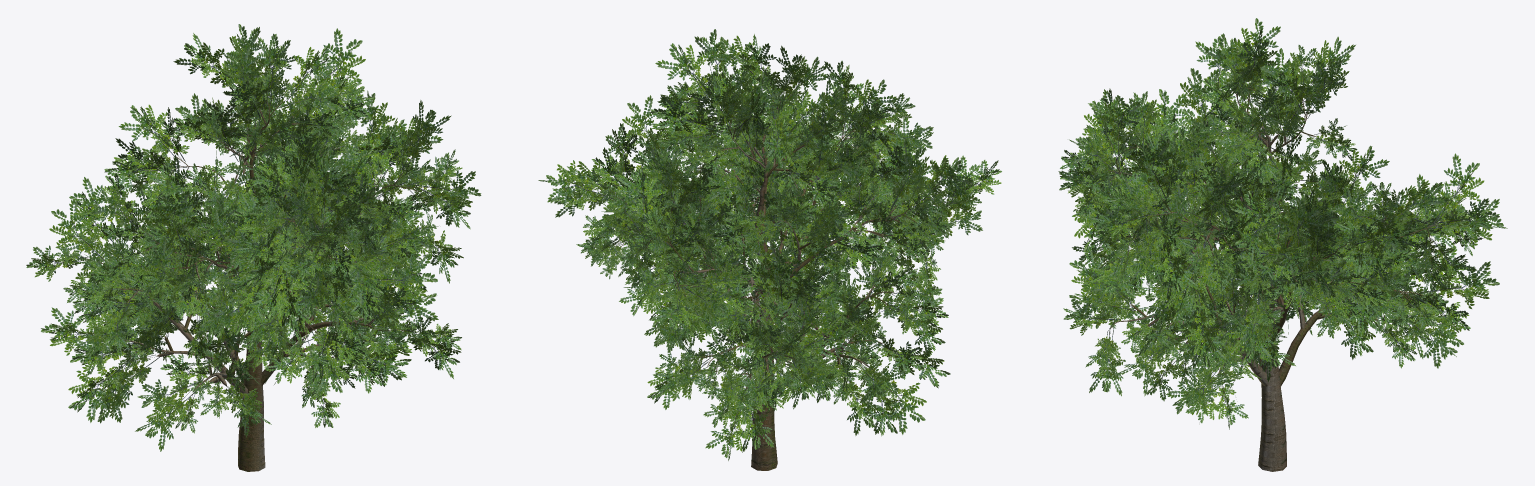
The model's file is baum_laub_2_lod0.glb.
3 renders of one model, left to right at view 1: azimuth 30°, elevation 25°; view 2: azimuth 150°, elevation 25°; view 3: azimuth 270°, elevation 25°, orthographic. The views are drawn at different scales.
Visible parts, largest first — view 1: Krone, Stamm; view 2: Krone, Stamm; view 3: Krone, Stamm.
Boxes of the visible parts, <box> form: Krone: <box>26,24,481,451</box>; Stamm: <box>86,98,429,471</box>; Krone: <box>538,29,1001,460</box>; Stamm: <box>615,98,948,470</box>; Krone: <box>1058,18,1507,429</box>; Stamm: <box>1096,88,1445,471</box>.
Size of the model in its own units: 10.45 by 11 by 10.49.
2 materials, 2 textured.
